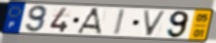4: (48, 7, 70, 34)
9: (166, 10, 192, 39), (24, 4, 48, 34)
A: (75, 7, 103, 36)
I: (112, 8, 128, 37)
V: (141, 9, 168, 37)
